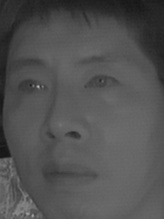eye: (80, 70, 124, 93), (16, 76, 52, 97)
mouth: (39, 157, 97, 193)
